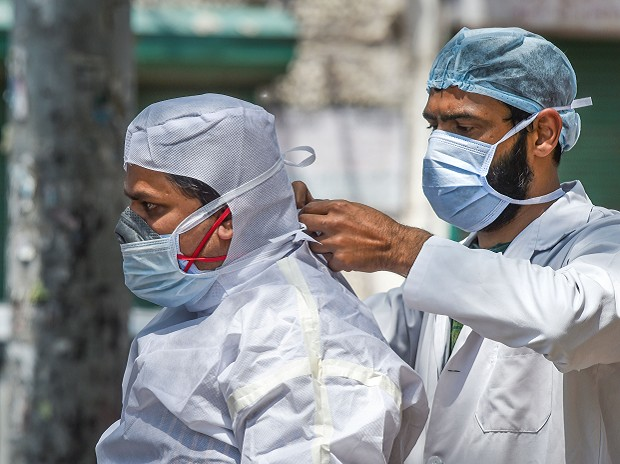Coverall: (92, 91, 432, 464)
with_mask: (116, 183, 216, 305), (419, 103, 509, 232)
